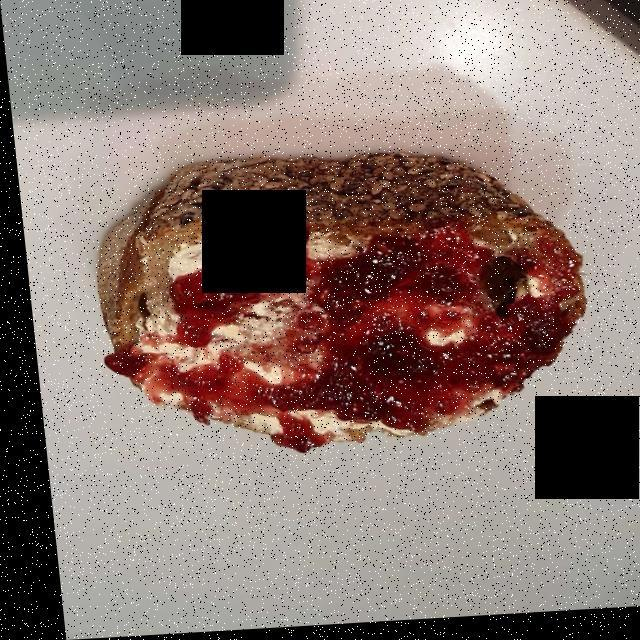bread: (95, 161, 574, 447)
jam: (122, 226, 569, 447)
